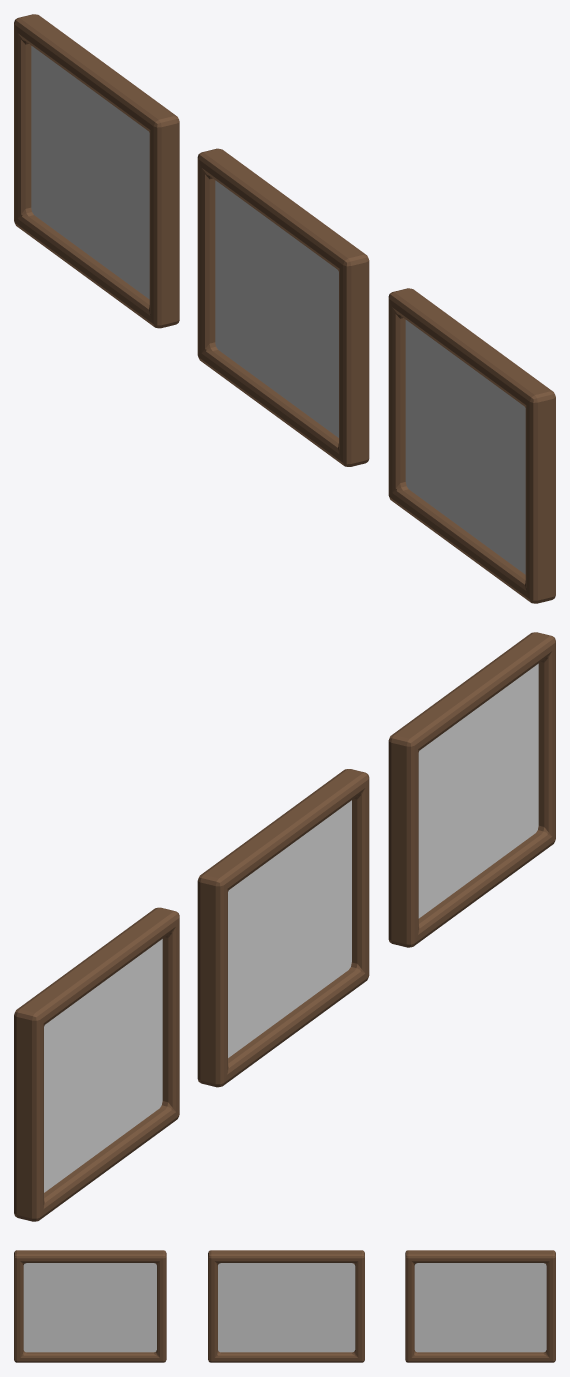
Rendered from Windows.fbx.
The picture shows the model from 3 angles, top to bottom: view 1: azimuth 30°, elevation 25°; view 2: azimuth 150°, elevation 25°; view 3: azimuth 270°, elevation 25°; orthographic projection. The views are drawn at different scales.
Parts seen in each view (by area): view 1: Cube.002, Cube.115, Cube.003, Cube.021, Cube.014, Cube.020; view 2: Cube.002, Cube.115, Cube.003, Cube.021, Cube.014, Cube.020; view 3: Cube.002, Cube.115, Cube.003, Cube.021, Cube.014, Cube.020.
Boxes of the visible parts, bbox=[...] form: Cube.002: bbox=[215, 180, 338, 437]; Cube.115: bbox=[405, 320, 525, 574]; Cube.003: bbox=[31, 46, 149, 299]; Cube.021: bbox=[197, 148, 369, 466]; Cube.014: bbox=[388, 288, 555, 603]; Cube.020: bbox=[14, 14, 179, 328]; Cube.002: bbox=[228, 800, 351, 1057]; Cube.115: bbox=[418, 663, 538, 918]; Cube.003: bbox=[44, 939, 162, 1192]; Cube.021: bbox=[197, 769, 369, 1087]; Cube.014: bbox=[388, 632, 555, 947]; Cube.020: bbox=[14, 907, 179, 1221]; Cube.002: bbox=[218, 1263, 355, 1352]; Cube.115: bbox=[23, 1263, 156, 1352]; Cube.003: bbox=[414, 1263, 546, 1352]; Cube.021: bbox=[208, 1250, 364, 1362]; Cube.014: bbox=[14, 1250, 166, 1362]; Cube.020: bbox=[405, 1250, 555, 1362].
Bounding box in the file's own units: 388 × 2998 × 13574.
